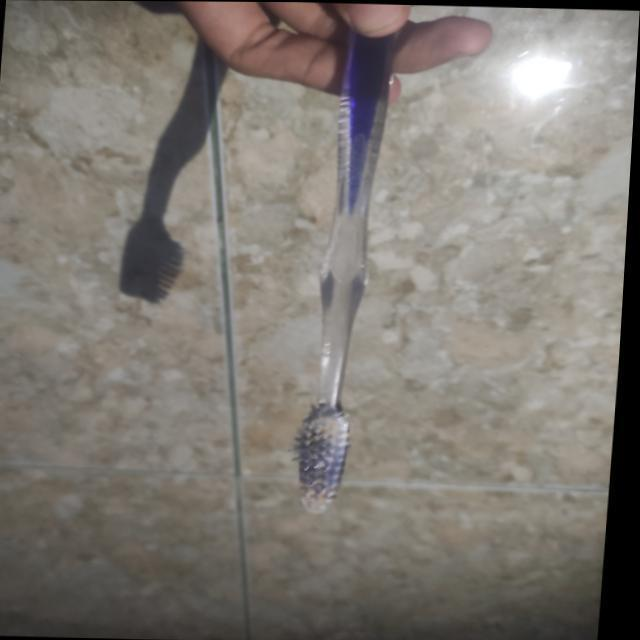toothbrush: (278, 2, 394, 518)
